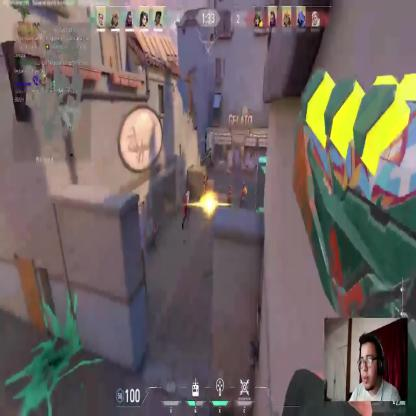enemy: (183, 190, 190, 228), (239, 181, 247, 211), (226, 183, 232, 213), (202, 175, 208, 201)
enemy_head: (242, 181, 246, 188), (186, 190, 190, 195), (228, 184, 231, 190), (203, 175, 206, 180)
